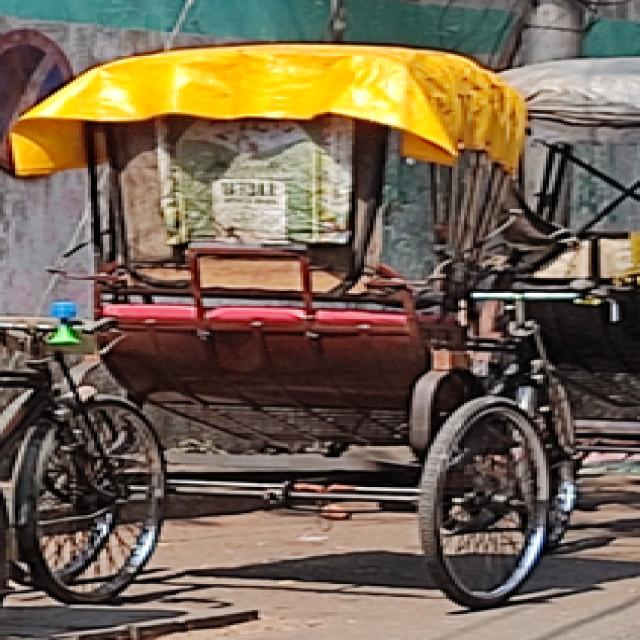rickshaw: (0, 24, 604, 623)
